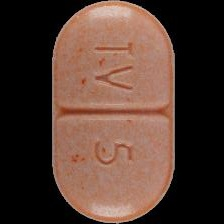43063-176: (0, 0, 224, 224)
